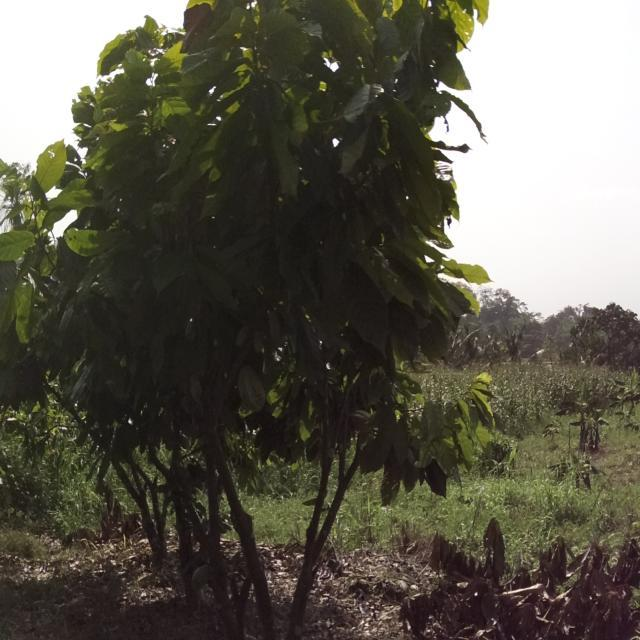Mature_Unripe: (233, 365, 274, 413), (349, 408, 377, 433), (191, 566, 214, 590)
